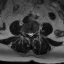CCS_stenosis: (30, 31, 32, 38)
LFS_normal: (33, 30, 35, 36)
LLS_stenosis: (32, 31, 33, 37)
RFS_stenosis: (26, 30, 28, 36)
RLS_stenosis: (28, 31, 30, 37)
